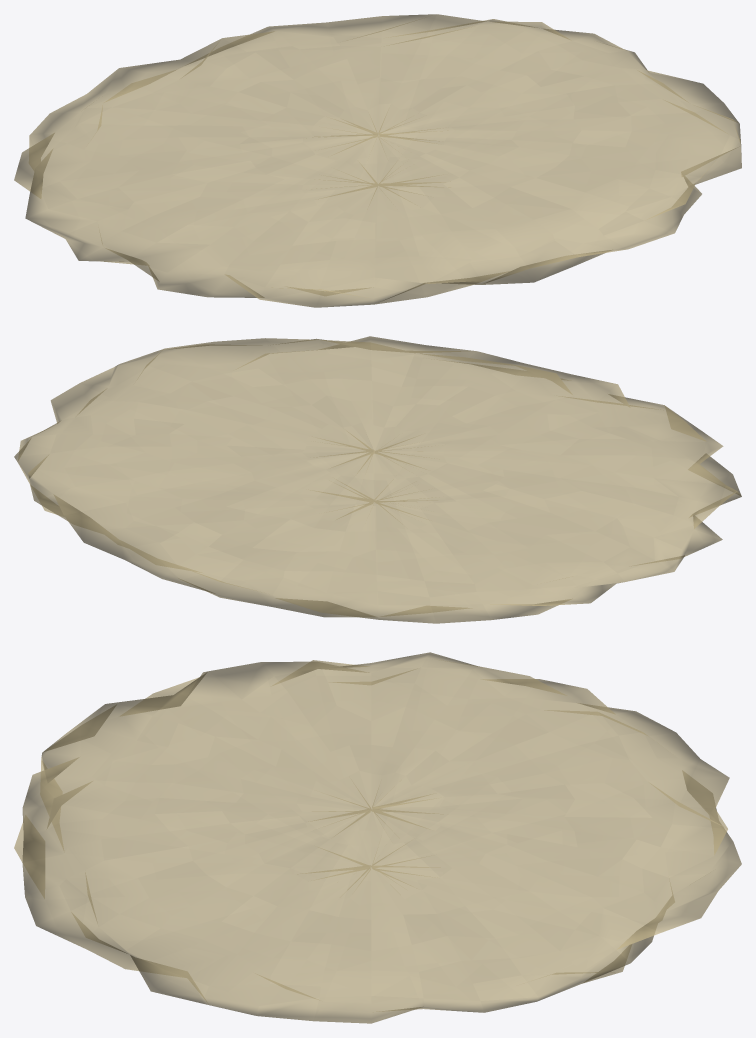
The model's file is Vinegar.glb.
3 renders of one model, top to bottom at view 1: azimuth 30°, elevation 25°; view 2: azimuth 150°, elevation 25°; view 3: azimuth 270°, elevation 25°, orthographic. The views are drawn at different scales.
Visible parts, largest first — view 1: Vinegar; view 2: Vinegar; view 3: Vinegar.
Boxes of the visible parts, box(x1,y1,x2,y2) form: Vinegar: box(14, 14, 741, 307); Vinegar: box(14, 336, 741, 623); Vinegar: box(14, 652, 741, 1023).
Size of what is drawn, in the model's own units: 0.0735 by 0.0058 by 0.062.
